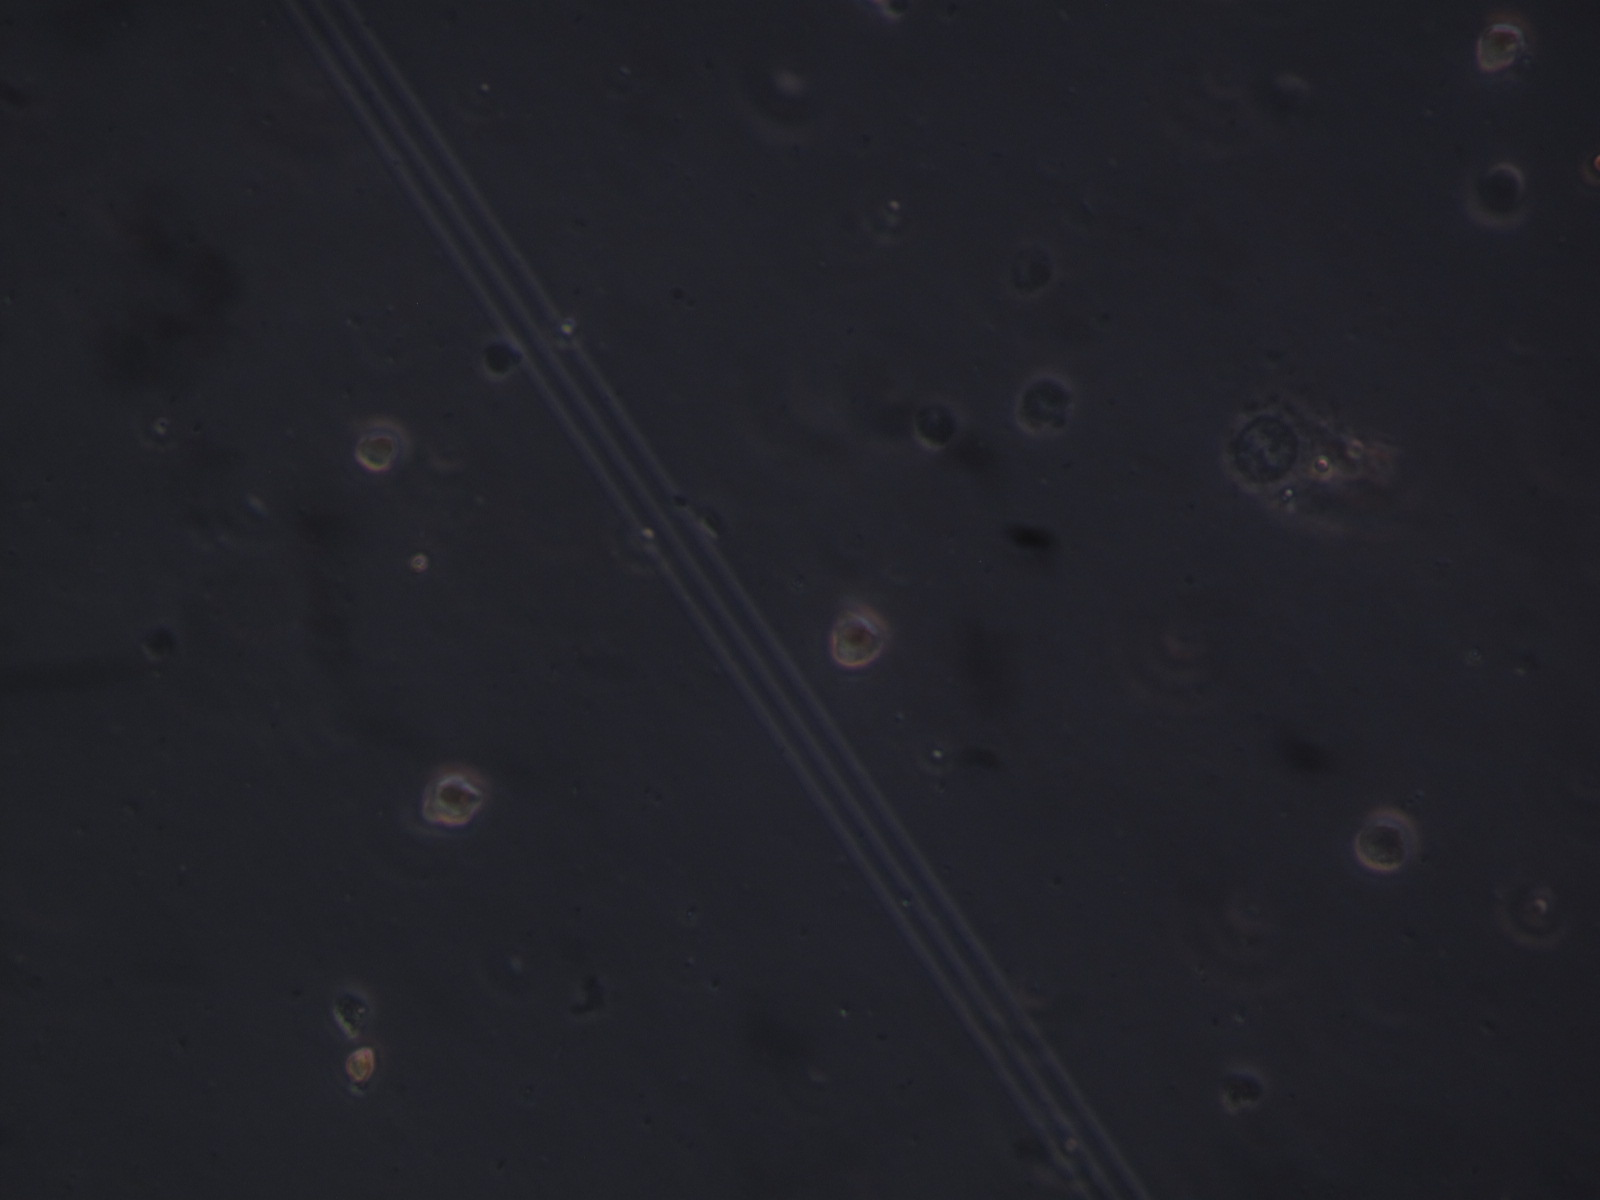hemo: (420, 761, 494, 833), (1460, 163, 1528, 228), (1356, 805, 1420, 874), (829, 603, 892, 669), (1015, 371, 1073, 436), (354, 411, 412, 474), (1475, 10, 1531, 76)
